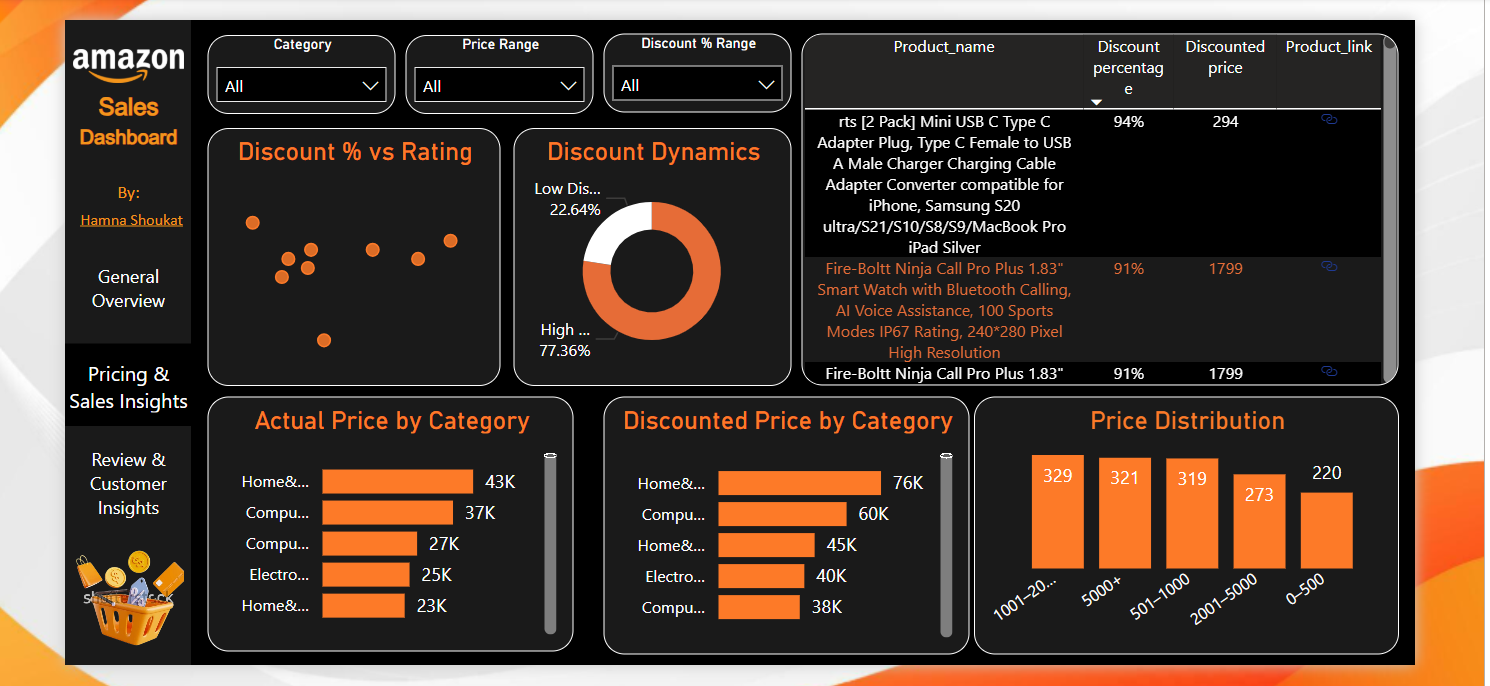

This screenshot's page, from the dashboard's own definition file:
{"tool":"powerbi","page":{"name":"Pricing & Sales Insights ","canvas":[900,430],"ordinal":1},"visuals":[{"type":"shape","box":[0,0,84,430],"z":0},{"type":"clusteredBarChart","title":"Discounted Price by Category","fields":{"Y":["Avg(amazon.actual_price)"],"Category":["amazon.category"]},"box":[359,251,244,172],"z":1000},{"type":"scatterChart","title":"Discount % vs Rating","fields":{"X":["amazon.discount_percentage"],"Y":["Sum(amazon.rating)"]},"box":[95,72,195,172],"z":2000},{"type":"clusteredBarChart","title":"Actual Price by Category","fields":{"Category":["amazon.category"],"Y":["Avg(amazon.discounted_price)"]},"box":[95,251,244,170],"z":3000},{"type":"tableEx","title":"Rating Distribution ","fields":{"Values":["amazon.product_name","Sum(amazon.discount_percentage)","Sum(amazon.discounted_price)","amazon.product_link"]},"box":[491,9,398,235],"z":4000},{"type":"columnChart","title":"Price Distribution","fields":{"Category":["amazon.Price Bin"],"Y":["CountNonNull(amazon.product_id)"]},"box":[606,251,283,172],"z":5000},{"type":"image","box":[0,0,84,62],"z":6000},{"type":"textbox","box":[0,41,84,125],"z":7000},{"type":"image","box":[0,344,84,86],"z":8000},{"type":"pageNavigator","box":[0,151,84,185],"z":9000},{"type":"slicer","title":"Category","fields":{"Values":["amazon.category"]},"box":[95,10,125,53],"z":10000},{"type":"slicer","title":"Price Range","fields":{"Values":["amazon.actual_price"]},"box":[227,10,125,53],"z":11000},{"type":"slicer","title":"Discount % Range","fields":{"Values":["amazon.discount_percentage"]},"box":[359,9,125,53],"z":12000},{"type":"donutChart","title":"Discount Dynamics","fields":{"Y":["CountNonNull(amazon.product_id)"],"Category":["amazon.Discount Group"]},"box":[299,72,185,172],"z":13000}]}

Visuals, with their boxes on the page's 900x430 design canvas (x1, y1, x2, y2). These are canvas units, not pixel positions in the 1490x686 screenshot, which may show the page scaled, cropped or inside an application window:
shape: region(0, 0, 84, 430)
"Discounted Price by Category" clusteredBarChart: region(359, 251, 603, 423)
"Discount % vs Rating" scatterChart: region(95, 72, 290, 244)
"Actual Price by Category" clusteredBarChart: region(95, 251, 339, 421)
"Rating Distribution " tableEx: region(491, 9, 889, 244)
"Price Distribution" columnChart: region(606, 251, 889, 423)
image: region(0, 0, 84, 62)
textbox: region(0, 41, 84, 166)
image: region(0, 344, 84, 430)
pageNavigator: region(0, 151, 84, 336)
"Category" slicer: region(95, 10, 220, 63)
"Price Range" slicer: region(227, 10, 352, 63)
"Discount % Range" slicer: region(359, 9, 484, 62)
"Discount Dynamics" donutChart: region(299, 72, 484, 244)
